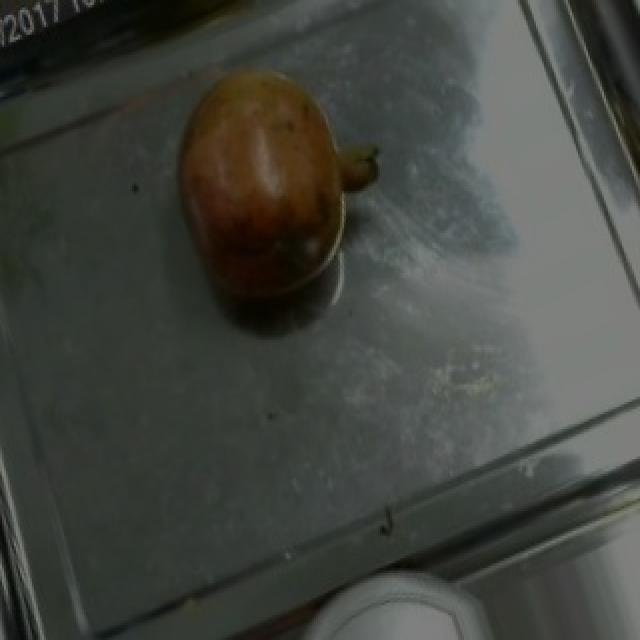fruit: (146, 37, 394, 313)
